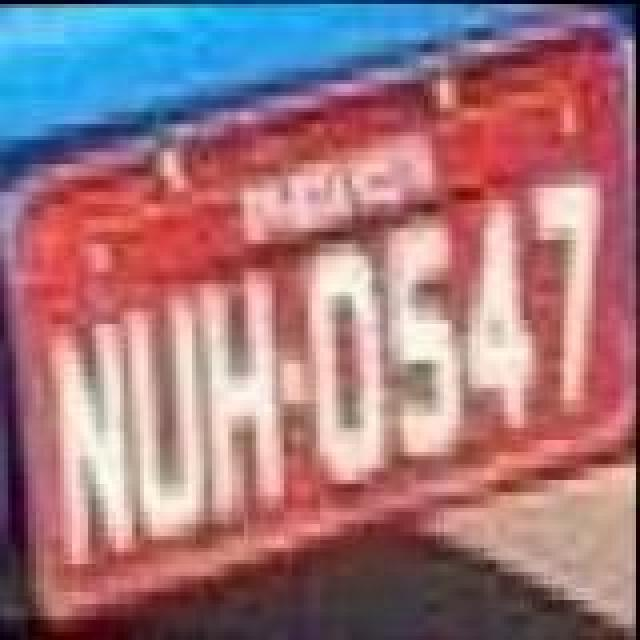4: (464, 190, 540, 430)
5: (380, 212, 464, 468)
7: (532, 180, 616, 420)
H: (198, 268, 290, 524)
N: (54, 324, 138, 580)
O: (308, 250, 392, 490)
U: (126, 294, 210, 550)
